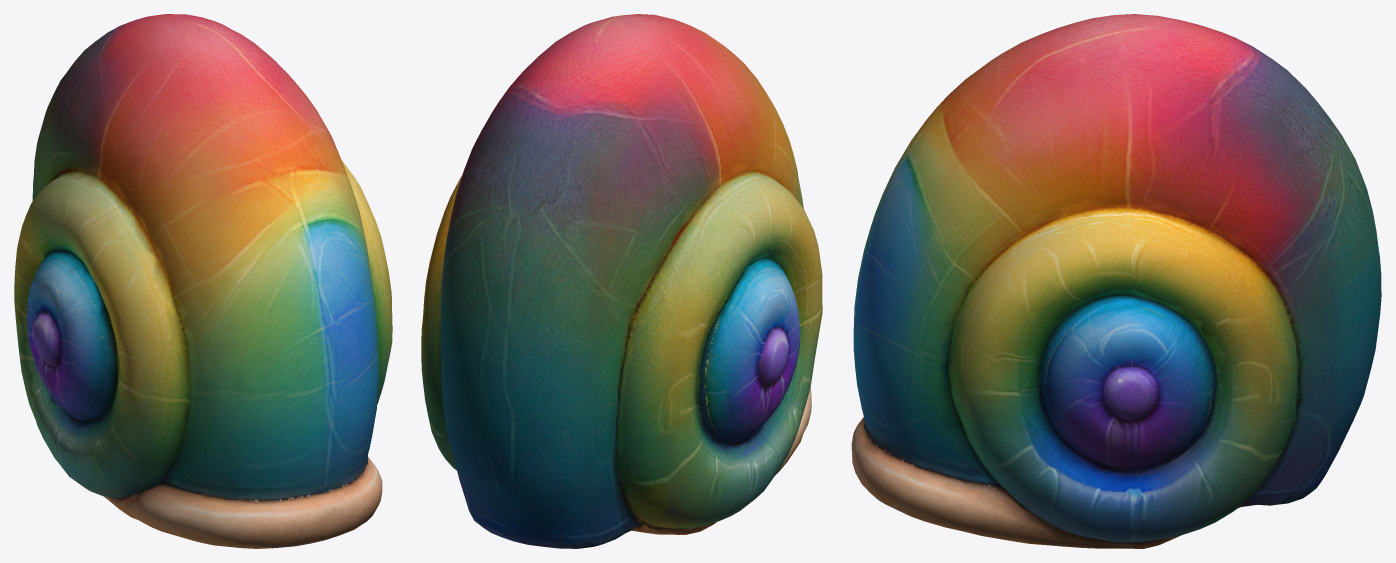
Rendered from Item_Shell_Rainbow.glb.
3 renders of one model, left to right at view 1: azimuth 30°, elevation 25°; view 2: azimuth 150°, elevation 25°; view 3: azimuth 270°, elevation 25°, orthographic. The views are drawn at different scales.
Parts seen in each view (by area): view 1: input; view 2: input; view 3: input.
Boxes of the visible parts, x1,y1,x2,y2 form: input: [14, 14, 392, 548]; input: [421, 14, 822, 548]; input: [851, 14, 1381, 548].
Bounding box in the file's own units: 0.7405 × 1 × 1.
Materials: 1 (1 with a texture image).
